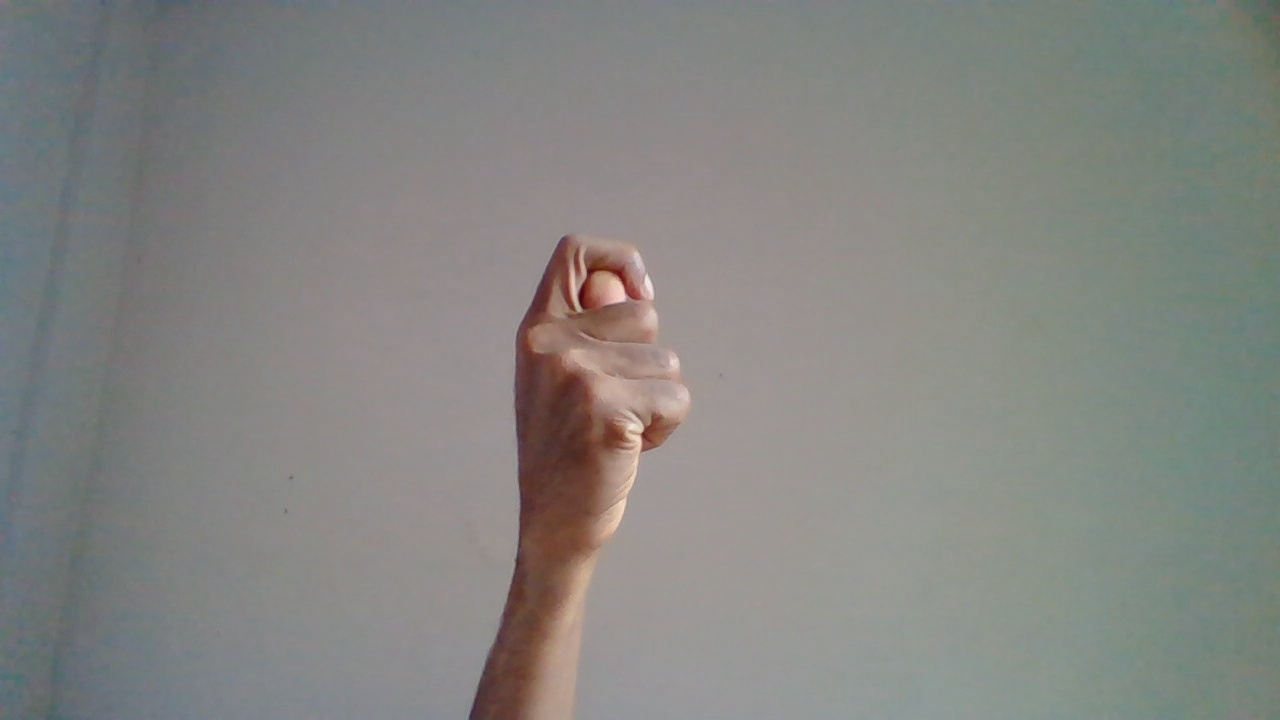che: (506, 233, 691, 697)
